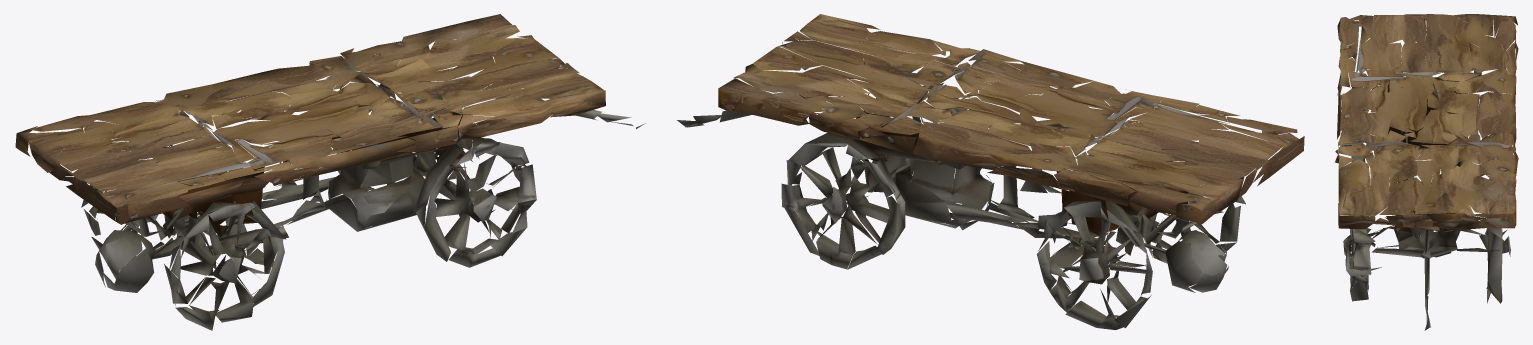
Rendered from penn_baggage_wagon.glb.
3 views of the same model, side by side, from view 1: azimuth 30°, elevation 25°; view 2: azimuth 150°, elevation 25°; view 3: azimuth 270°, elevation 25° (orthographic). The views are drawn at different scales.
Parts seen in each view (by area): view 1: tripo_node_3e1476d4-39af-4575-8b60-687e43240b00; view 2: tripo_node_3e1476d4-39af-4575-8b60-687e43240b00; view 3: tripo_node_3e1476d4-39af-4575-8b60-687e43240b00.
Boxes of the visible parts, left/top/right/bottom form: tripo_node_3e1476d4-39af-4575-8b60-687e43240b00: left=15, top=14, right=645, bottom=330; tripo_node_3e1476d4-39af-4575-8b60-687e43240b00: left=677, top=14, right=1304, bottom=329; tripo_node_3e1476d4-39af-4575-8b60-687e43240b00: left=1334, top=14, right=1518, bottom=330.
Size of the model in its own units: 0.9991 by 0.2685 by 0.3267.
1 material, 1 textured.
